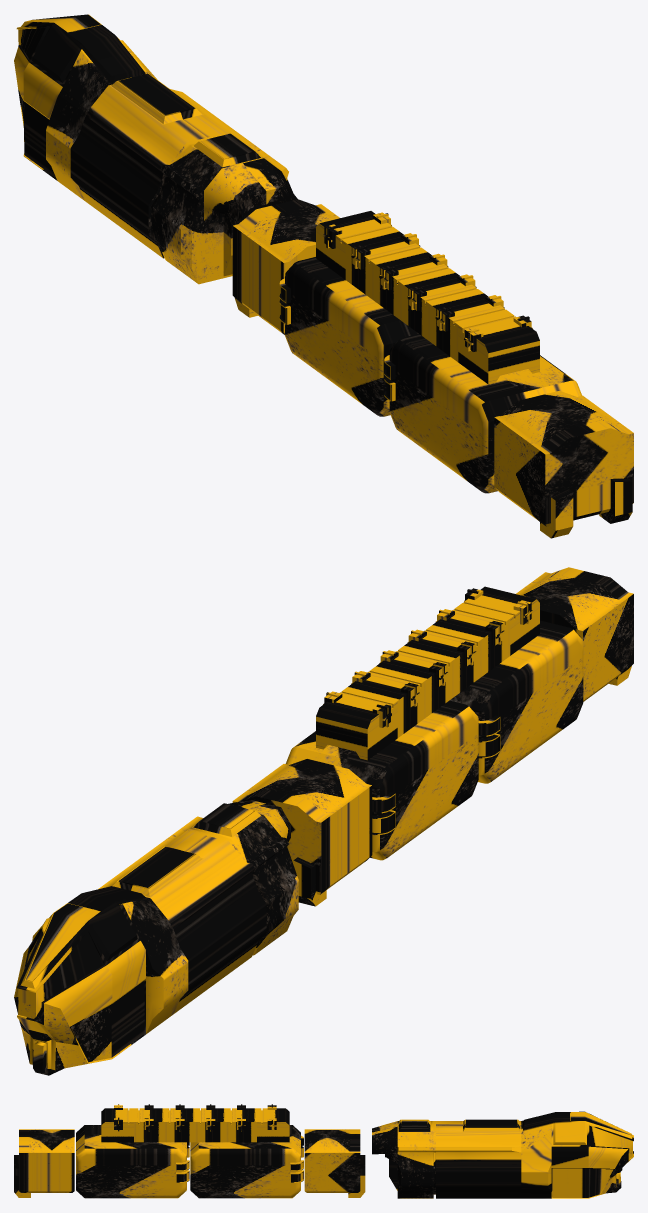
File: train.fbx
3 views of the same model, one above another, from view 1: azimuth 30°, elevation 25°; view 2: azimuth 150°, elevation 25°; view 3: azimuth 270°, elevation 25° (orthographic). The views are drawn at different scales.
Parts seen in each view (by area): view 1: pCube159; view 2: pCube159; view 3: pCube159.
Boxes of the visible parts, x1,y1,x2,y2 form: pCube159: (14,14,633,538); pCube159: (14,567,633,1075); pCube159: (14,1104,633,1198).
Size of the model in its own units: 6.65 by 7.73 by 55.55.
